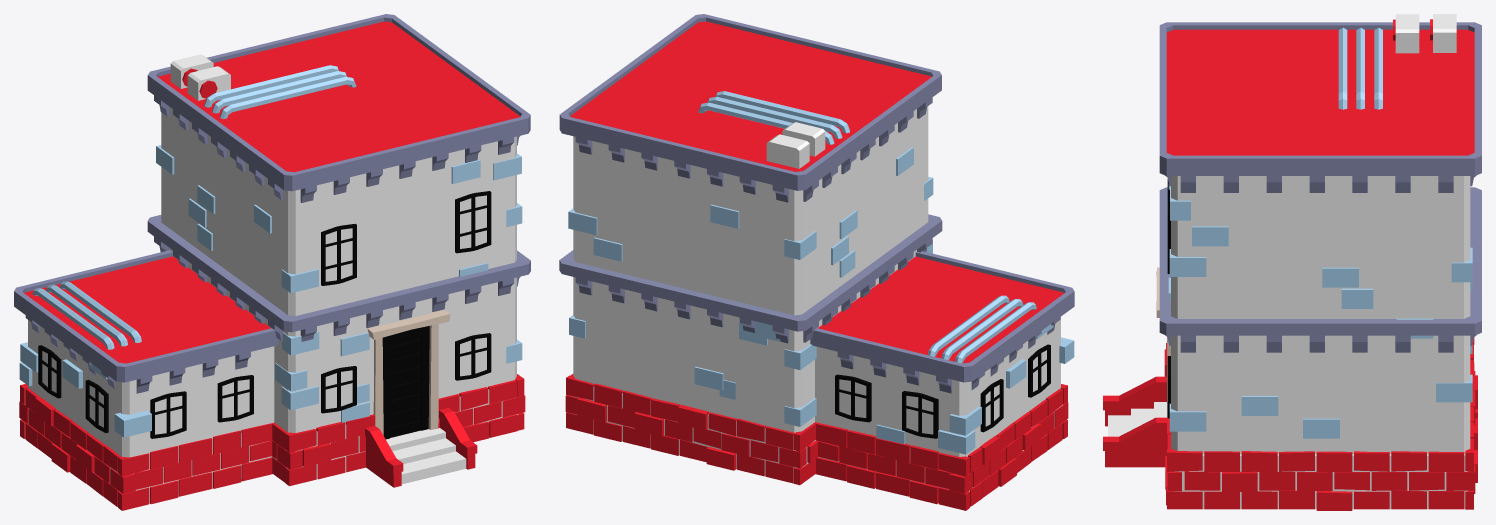
File: building_quaternius_2Story_Sidehouse.glb
3 renders of one model, left to right at view 1: azimuth 30°, elevation 25°; view 2: azimuth 150°, elevation 25°; view 3: azimuth 270°, elevation 25°, orthographic. The views are drawn at different scales.
Size of the model in its own units: 3.47 by 2.76 by 2.53.
1 material, 1 textured.
